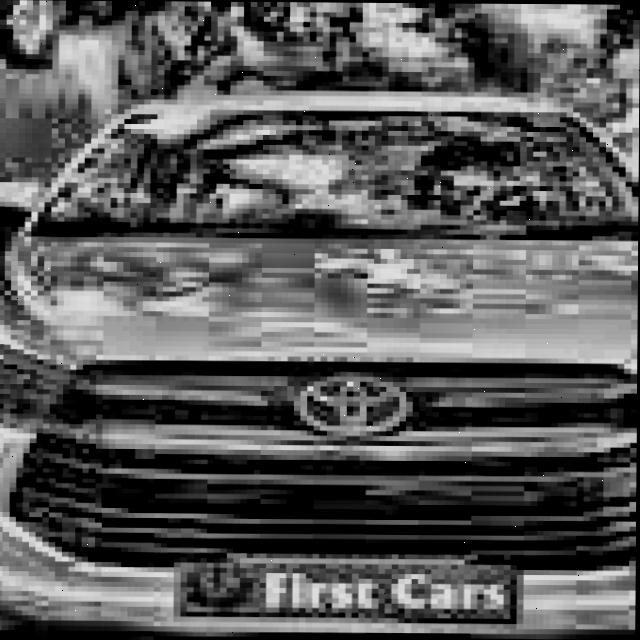light_vehicle: (0, 88, 639, 640)
